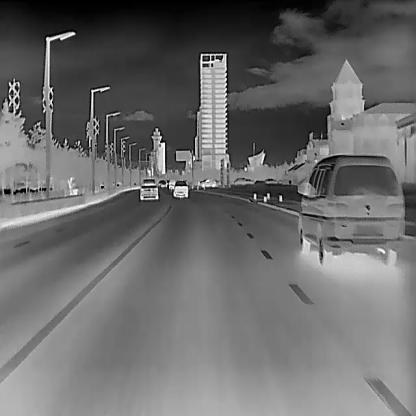car: (296, 152, 404, 265), (138, 178, 158, 199), (172, 180, 188, 197), (199, 177, 217, 188), (167, 176, 176, 190), (265, 177, 277, 184)
